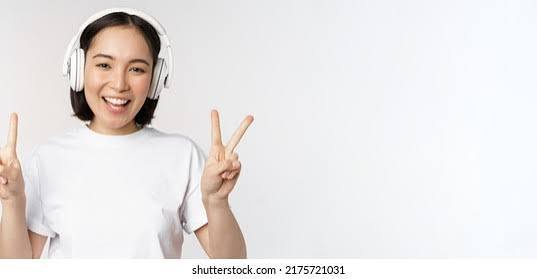peace_sign: (200, 102, 256, 199)
